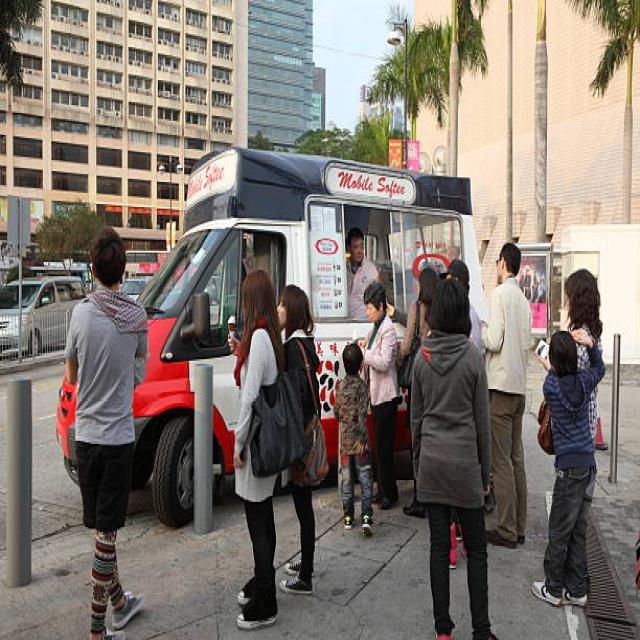Emperan: (52, 132, 512, 542)
